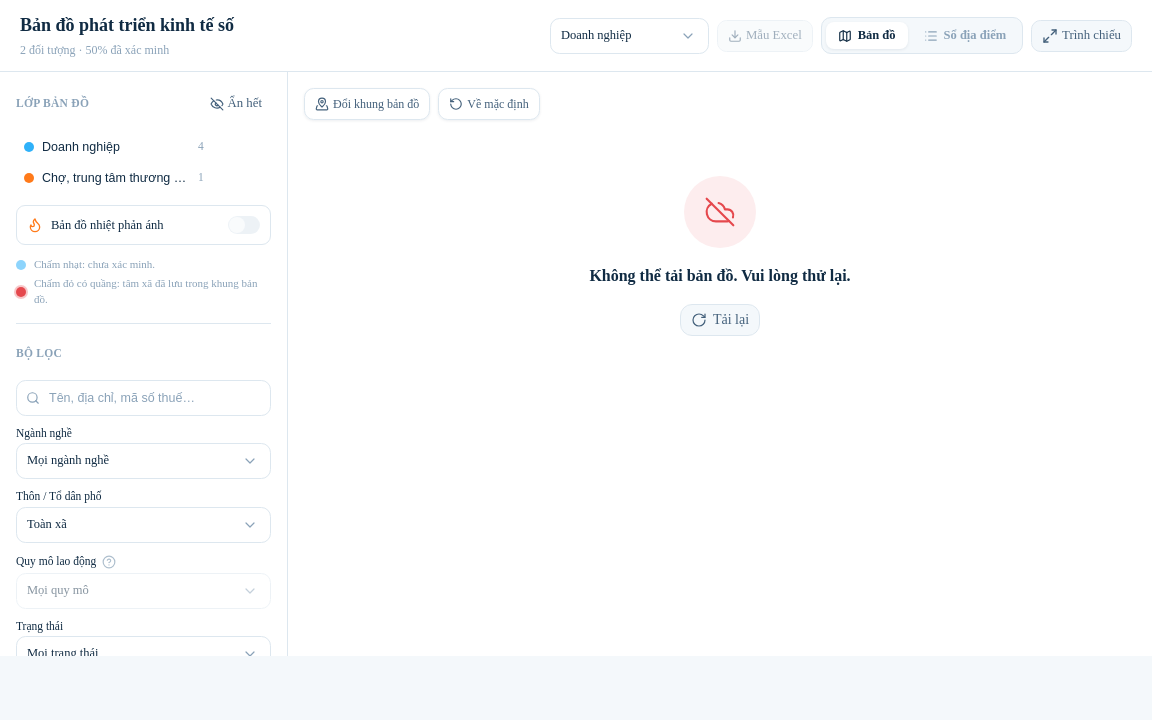
Test: frame change goes through the legal notice (K4) › 422 notice_not_acknowledged: reloads the frame and shows the notice again, unticked
Click the button "Đổi khung bản đồ" at (367, 104), box left=304, top=88, right=430, bottom=120
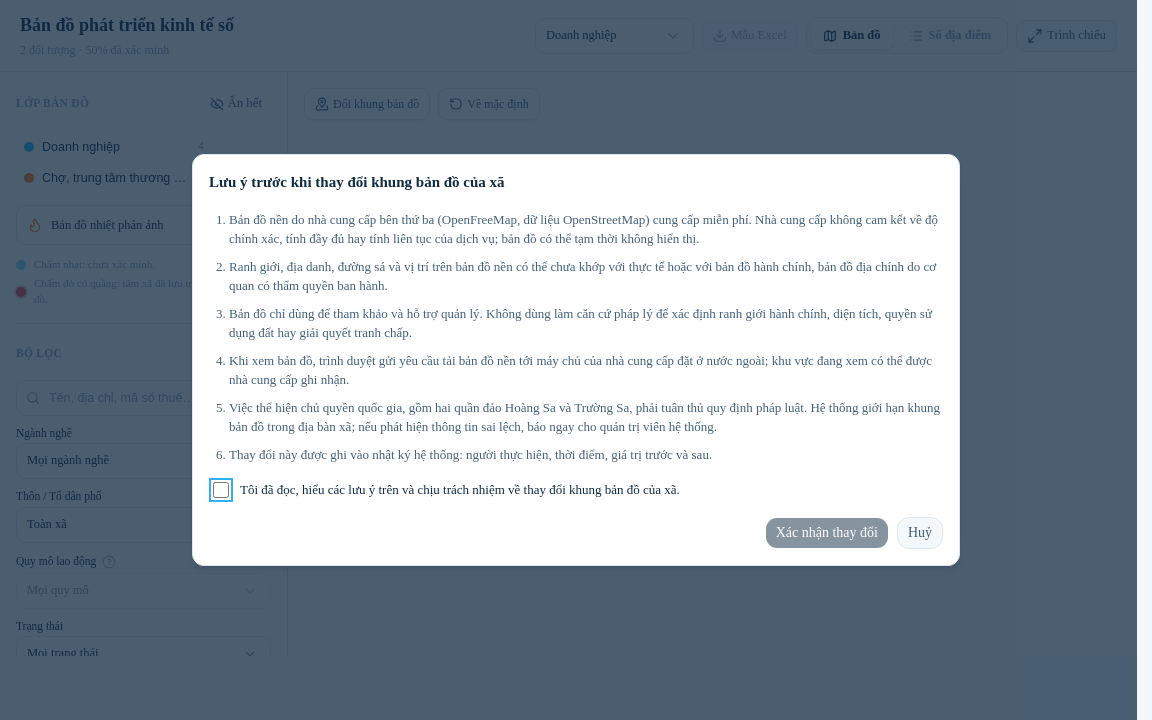
Click the checkbox at (221, 490), box left=213, top=482, right=229, bottom=498
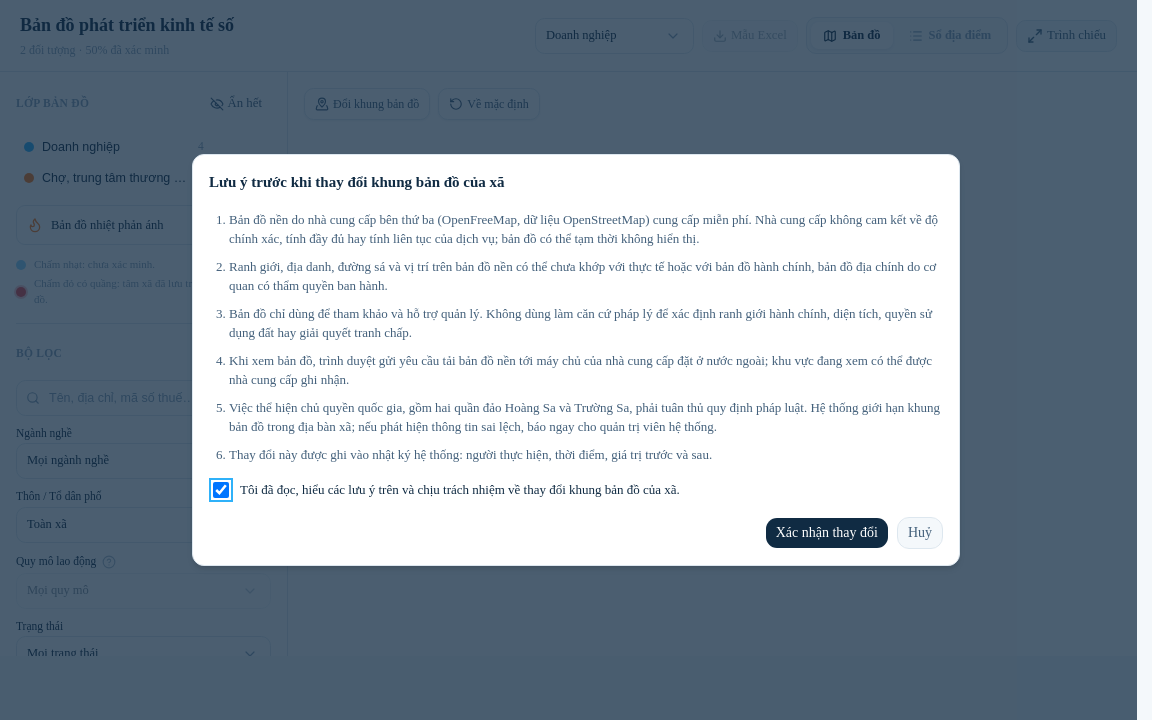
Click the button "Xác nhận thay đổi" at (827, 533), box left=765, top=517, right=889, bottom=549
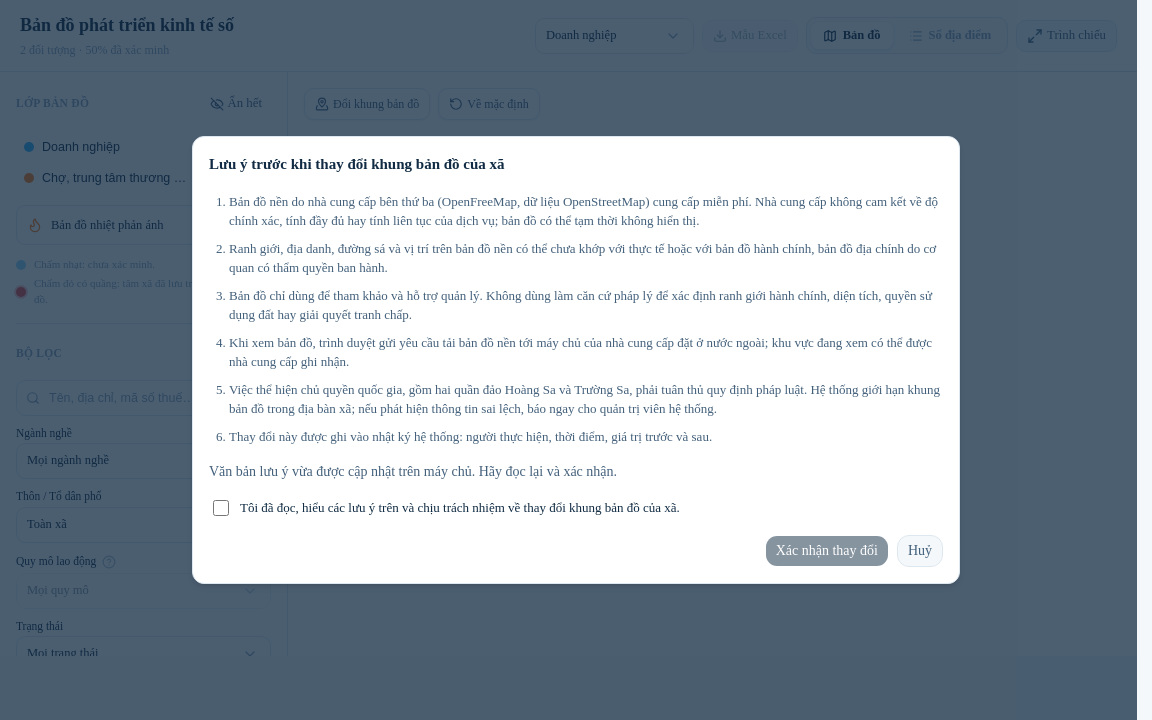
Now the checkbox is not checked, box left=213, top=500, right=229, bottom=516
Now the button "Xác nhận thay đổi" is disabled, box left=765, top=535, right=889, bottom=567
